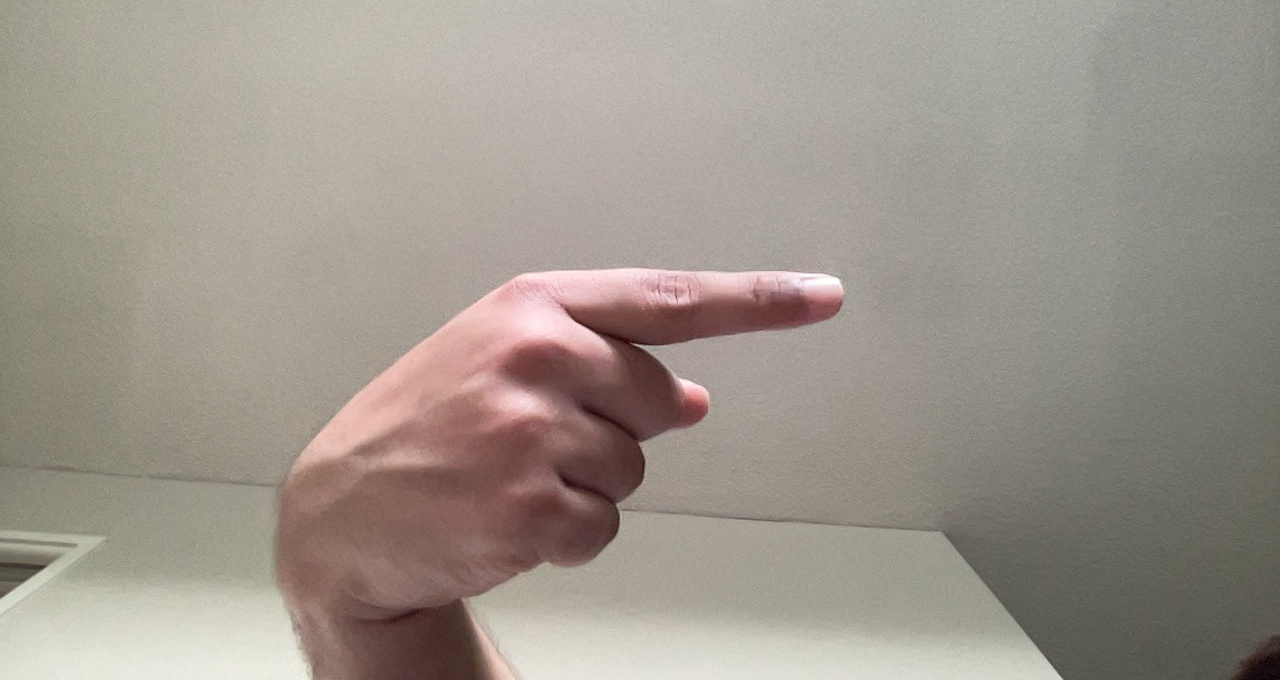fingerleft: (267, 259, 852, 602)
